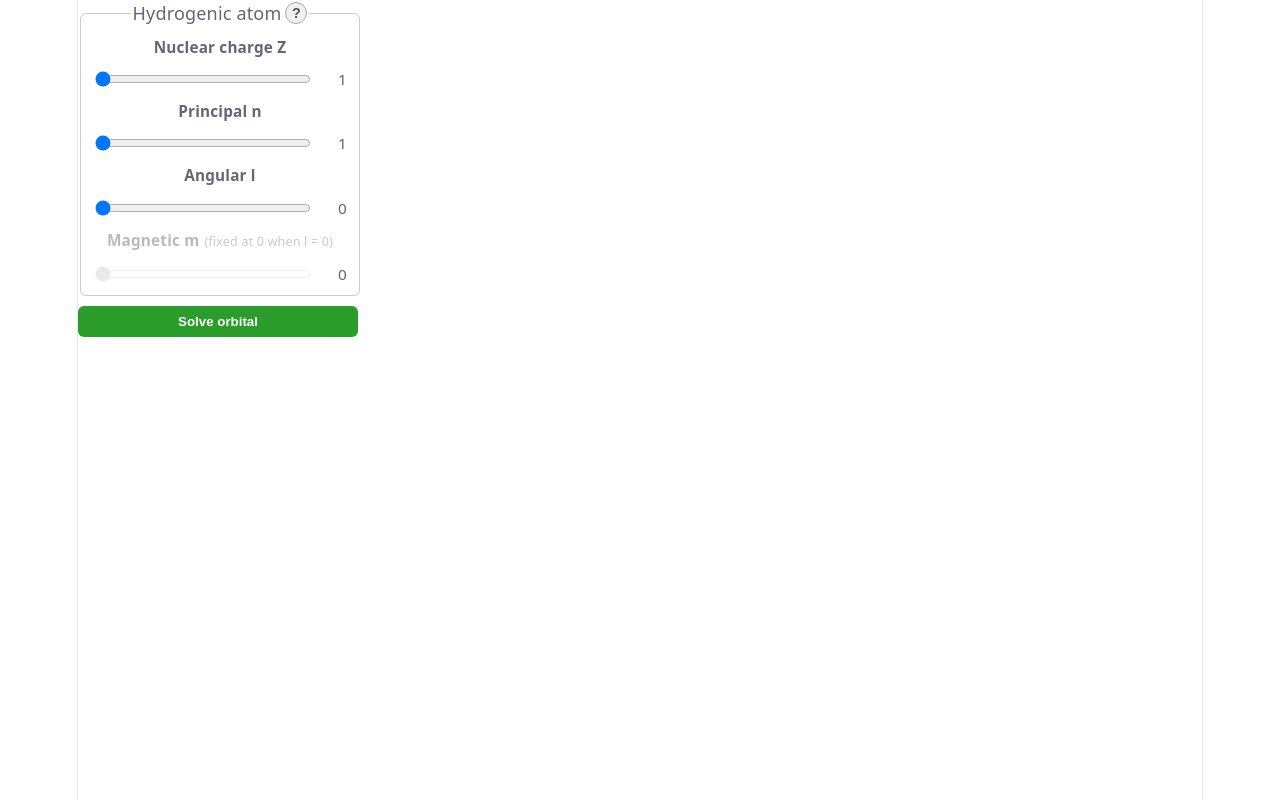
Scenario: Spec 19 — help modal › clicking ✕ closes the modal (req 10)
Click the button named "show hydrogenic reference": (296, 13) [285,2,307,24]
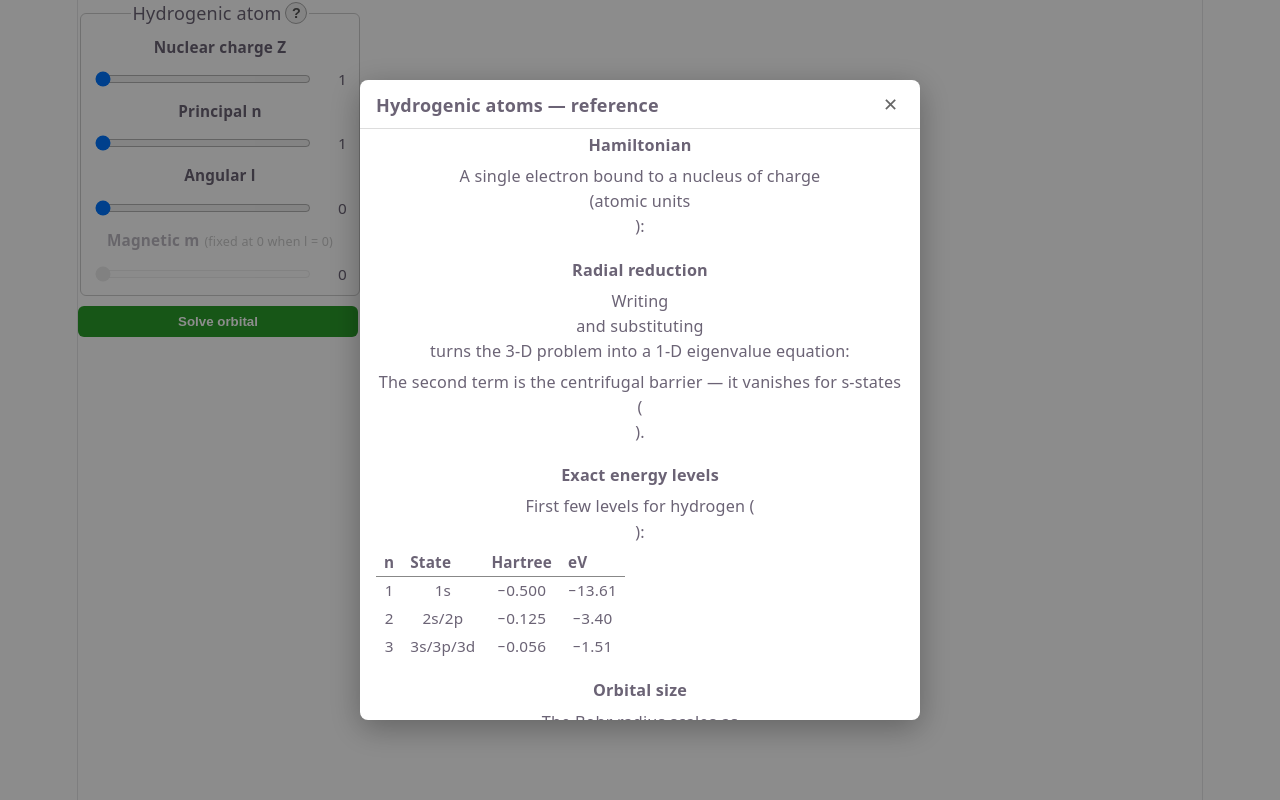
Click the button named "close": (890, 105) [877,94,904,116]
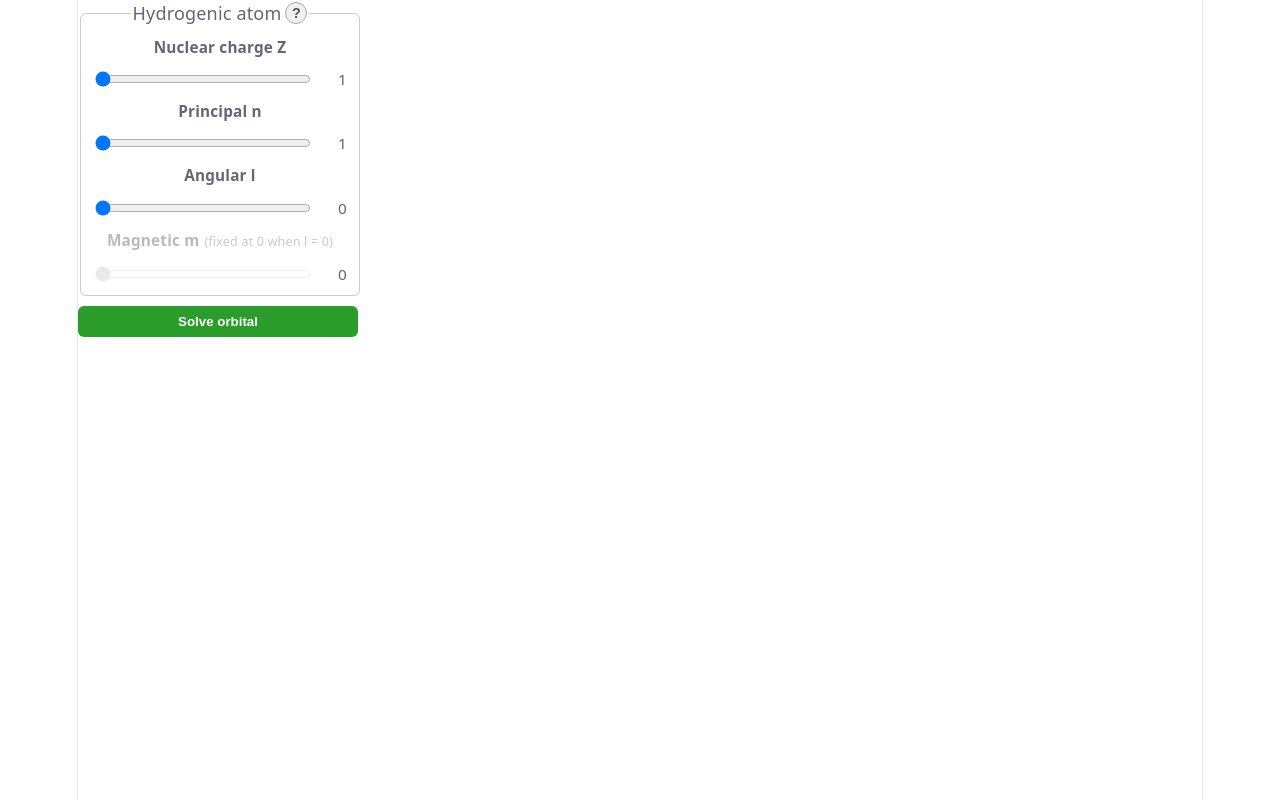
Expected: the dialog is gone
